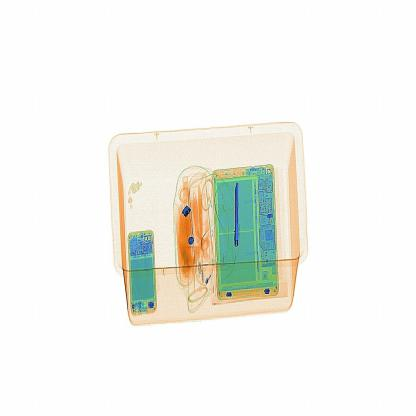pliers: (228, 177, 255, 250)
